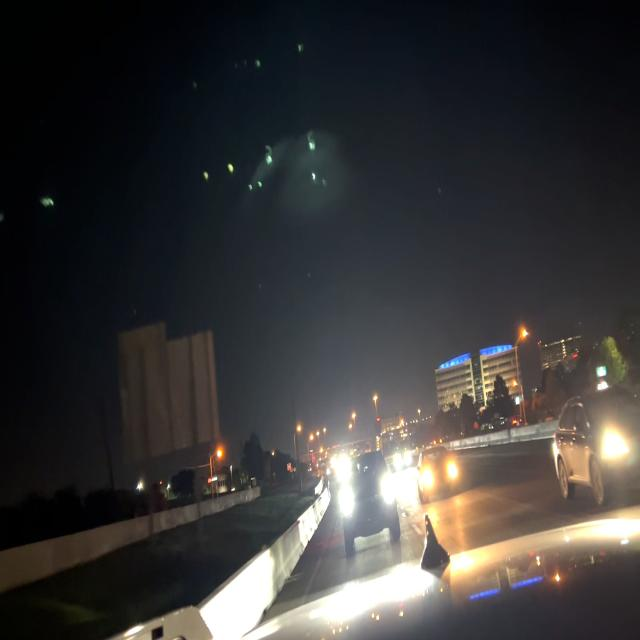back-of-sign: (119, 329, 219, 457)
